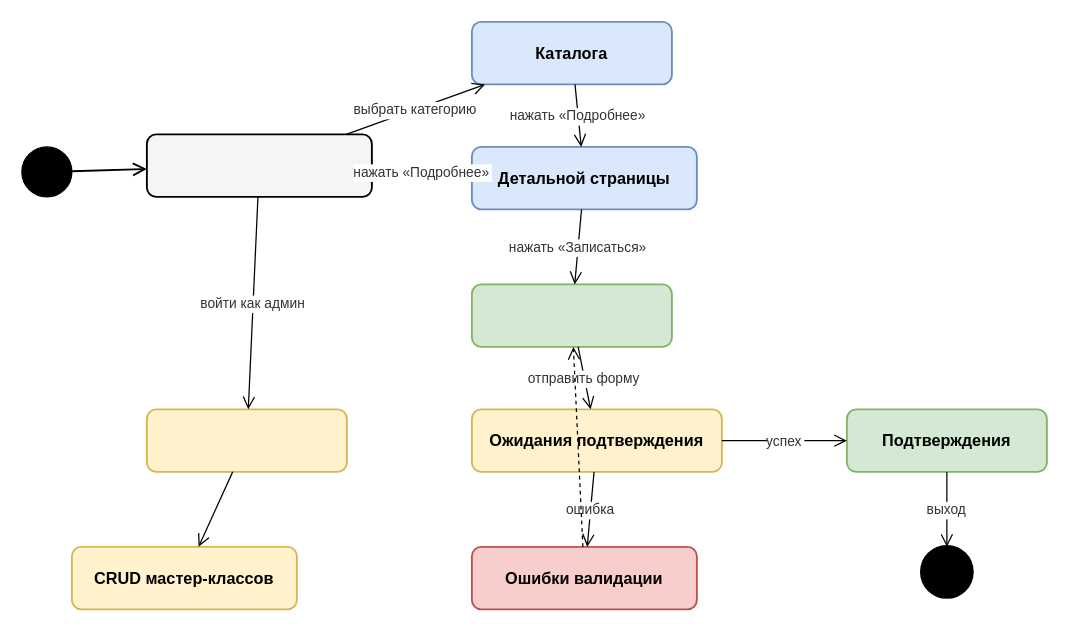
Image size: 1070x633. Some labels were removed from this diagram. Here are the shapes that lost their labels. From the top down, the centre of each, then its label:
(x=258, y=165): Главной страницы
(x=571, y=315): Формы записи
(x=246, y=440): Админ-панели
